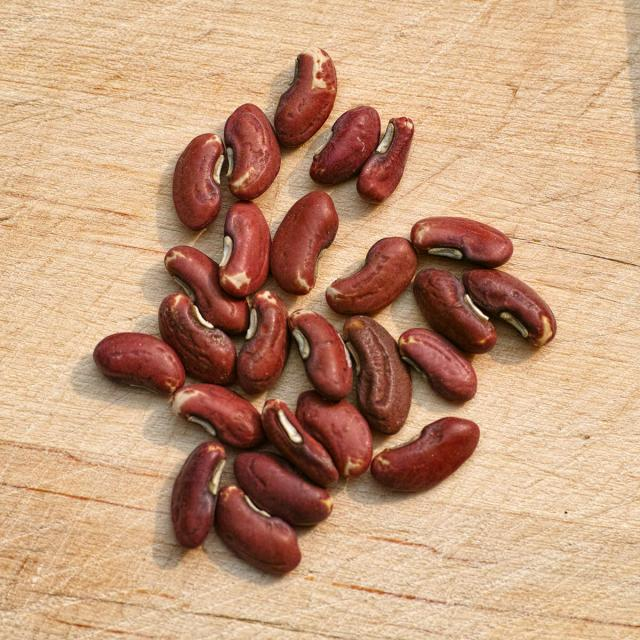organic: (340, 319, 412, 437), (205, 488, 300, 576), (228, 456, 335, 533), (456, 269, 555, 351), (370, 419, 478, 492), (153, 296, 236, 389), (256, 404, 339, 493), (411, 271, 496, 357), (160, 441, 227, 547), (271, 47, 337, 153), (323, 239, 416, 313), (279, 188, 340, 297), (296, 393, 372, 475), (285, 308, 351, 401), (94, 334, 182, 402), (169, 385, 259, 451), (231, 291, 285, 398), (399, 329, 477, 403), (404, 216, 512, 268), (215, 202, 276, 294), (308, 108, 384, 181), (355, 116, 417, 204), (172, 137, 223, 227), (228, 102, 277, 194)
